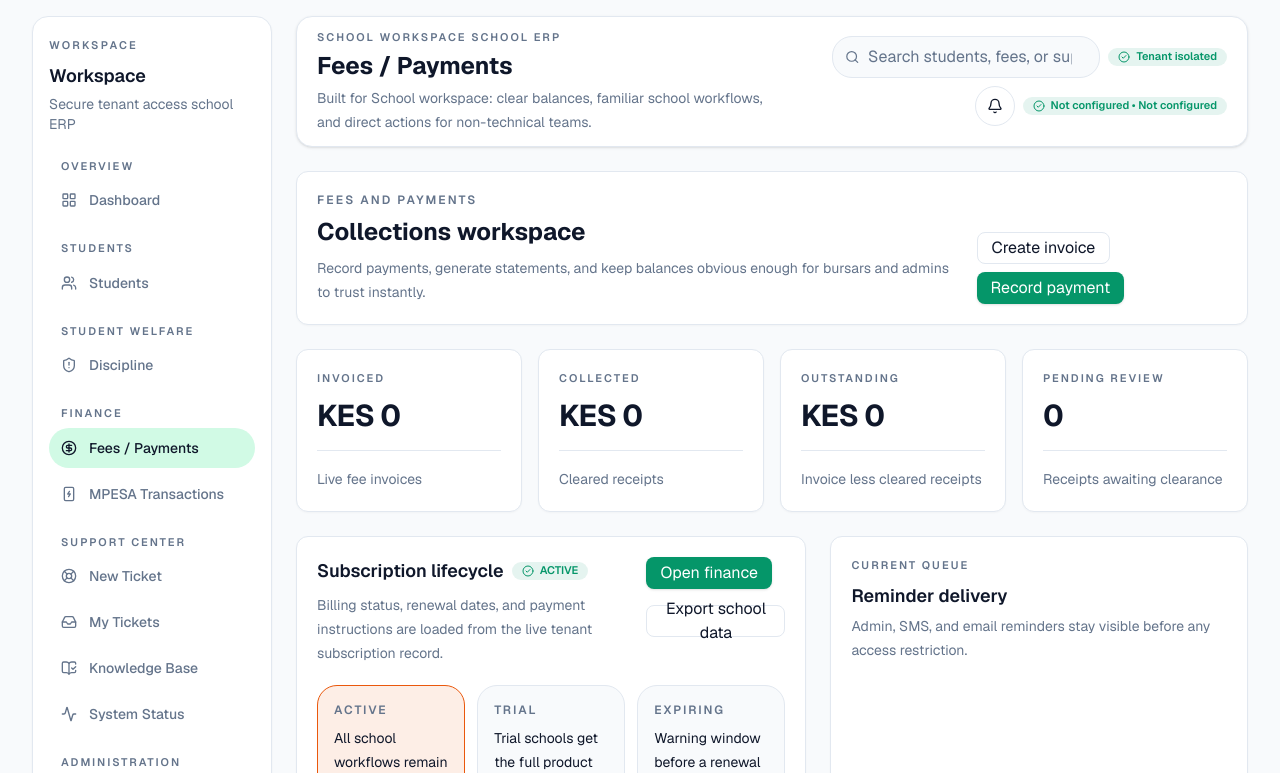
Test case: experience actions › records a school payment through the collections workspace
The image size is (1280, 773).
Click the button "Record payment": (1050, 288) [976,272,1124,304]
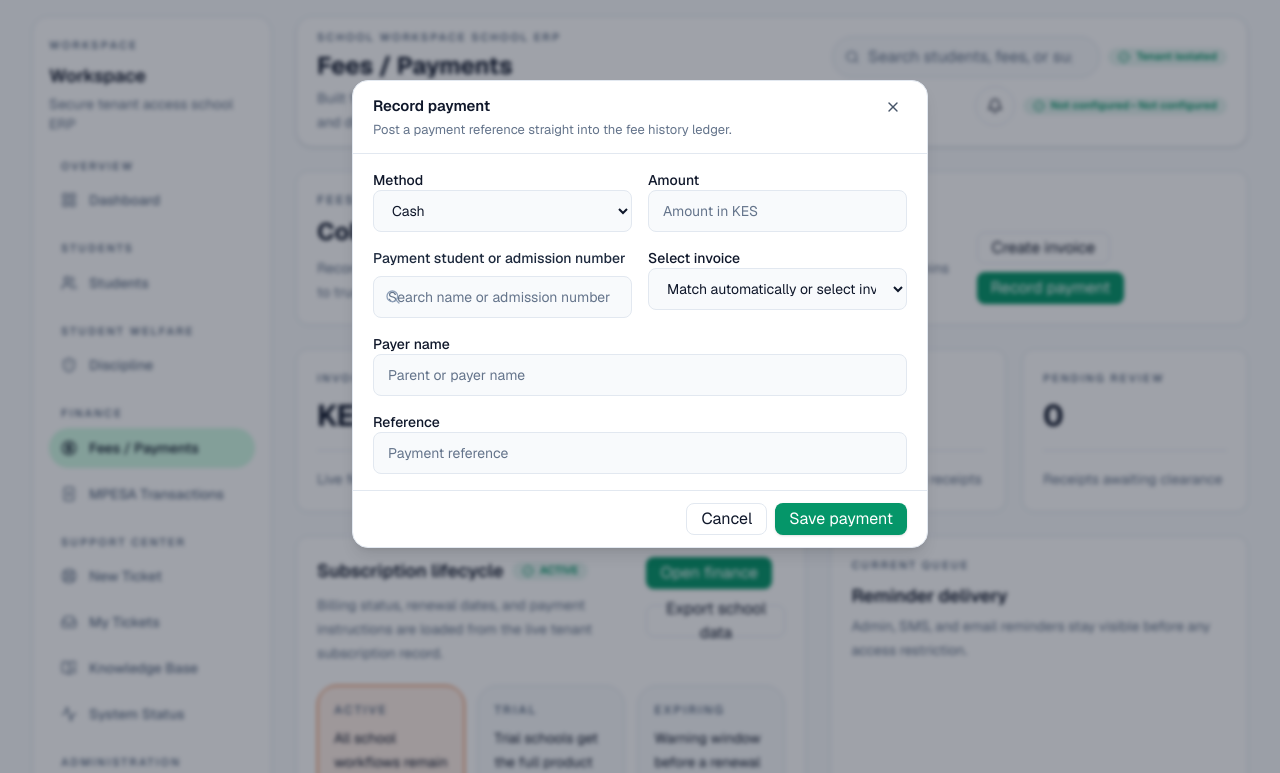
In the field labelled "Payment student or admission number": (502, 297) [373,276,632,318], type "Mercy"
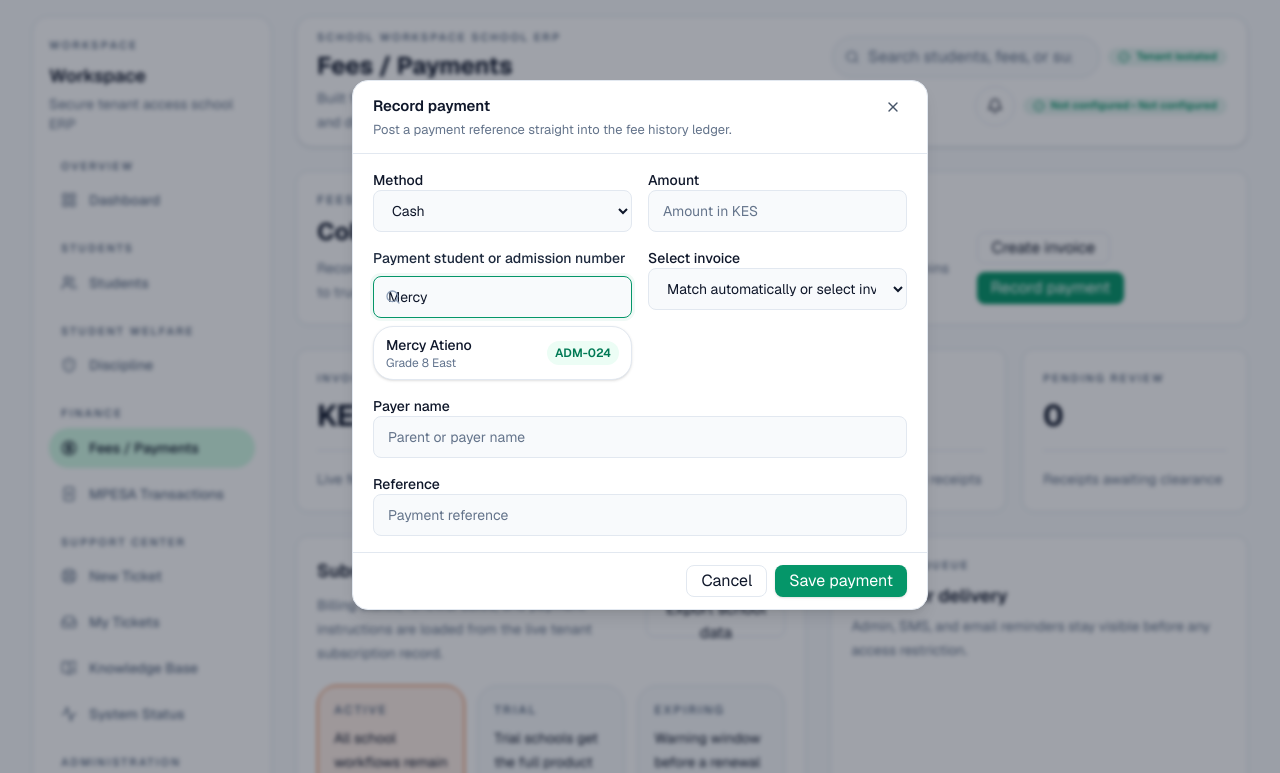
Click the button "Mercy Atieno Grade 8 East ADM-024": (502, 353) [374,327,631,379]
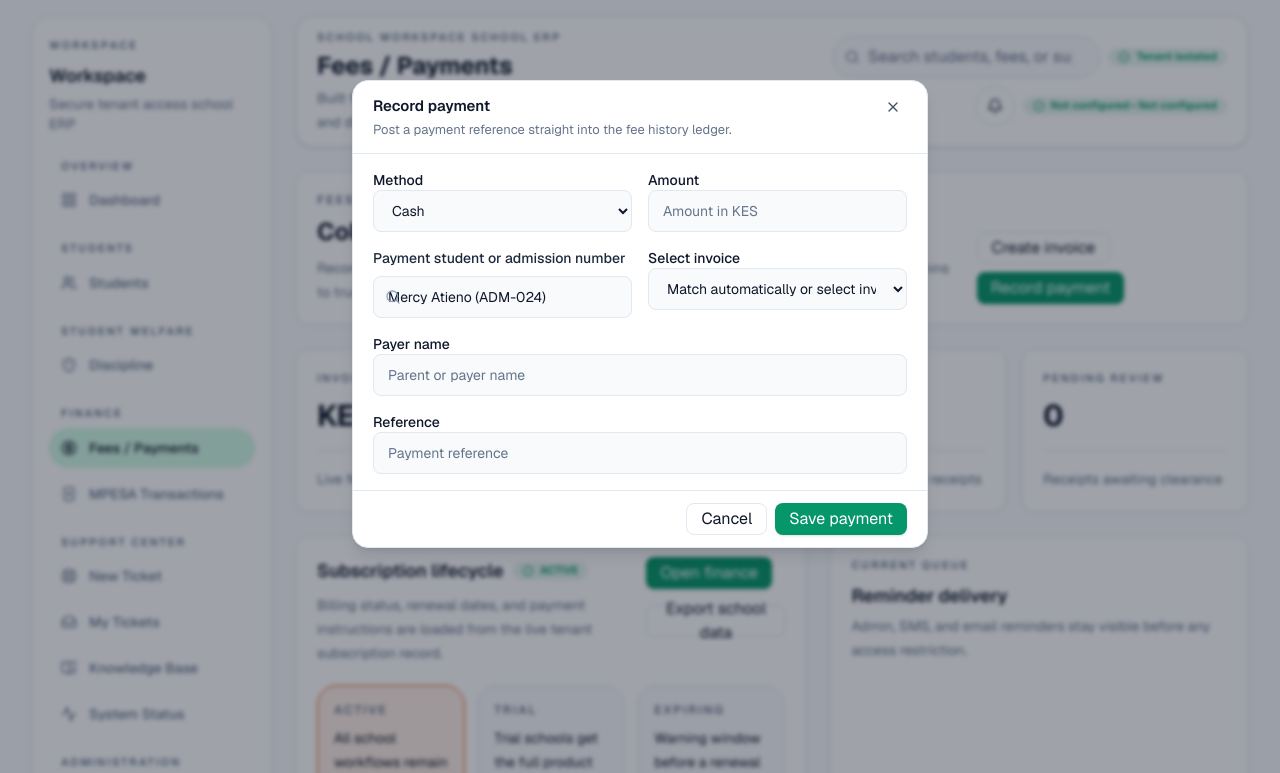
In the field named "payment amount": (778, 211) [648,190,907,232], type "18500"
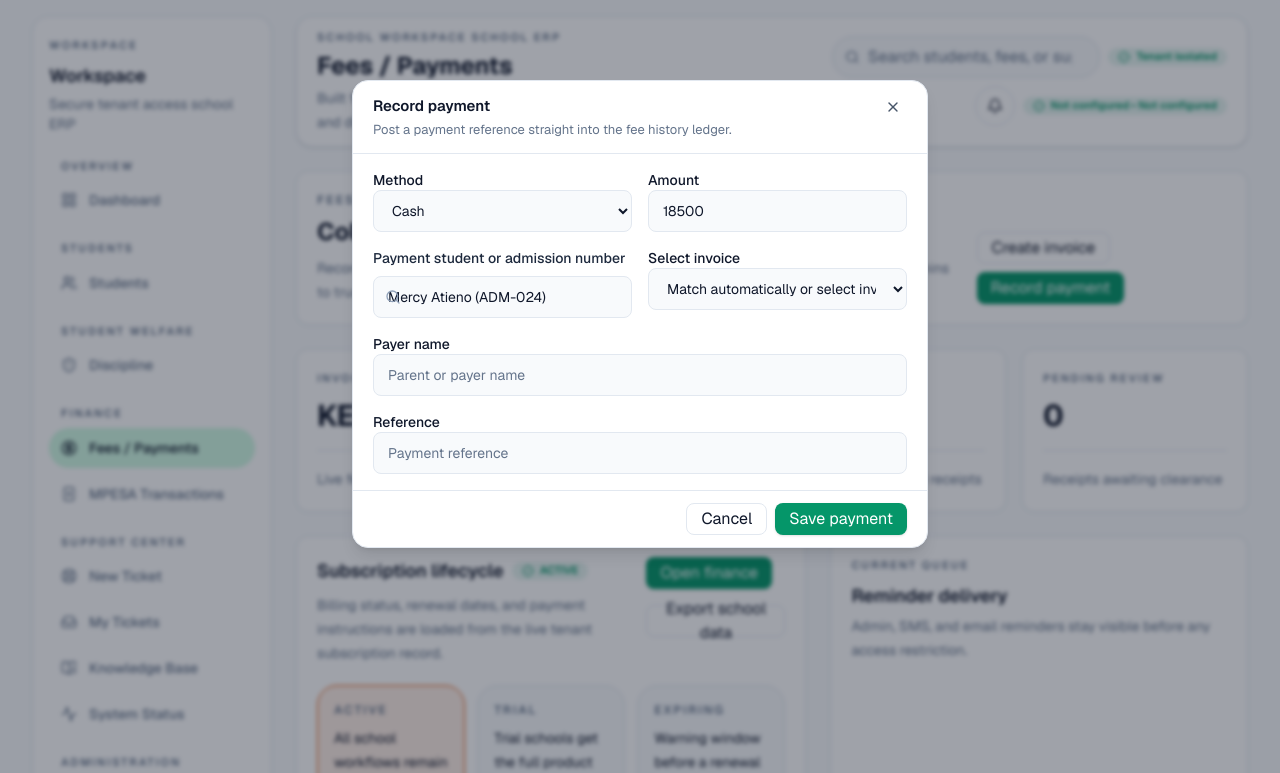
In the field named "Payment reference": (640, 453) [373,432,907,474], type "SMX82KQ4"
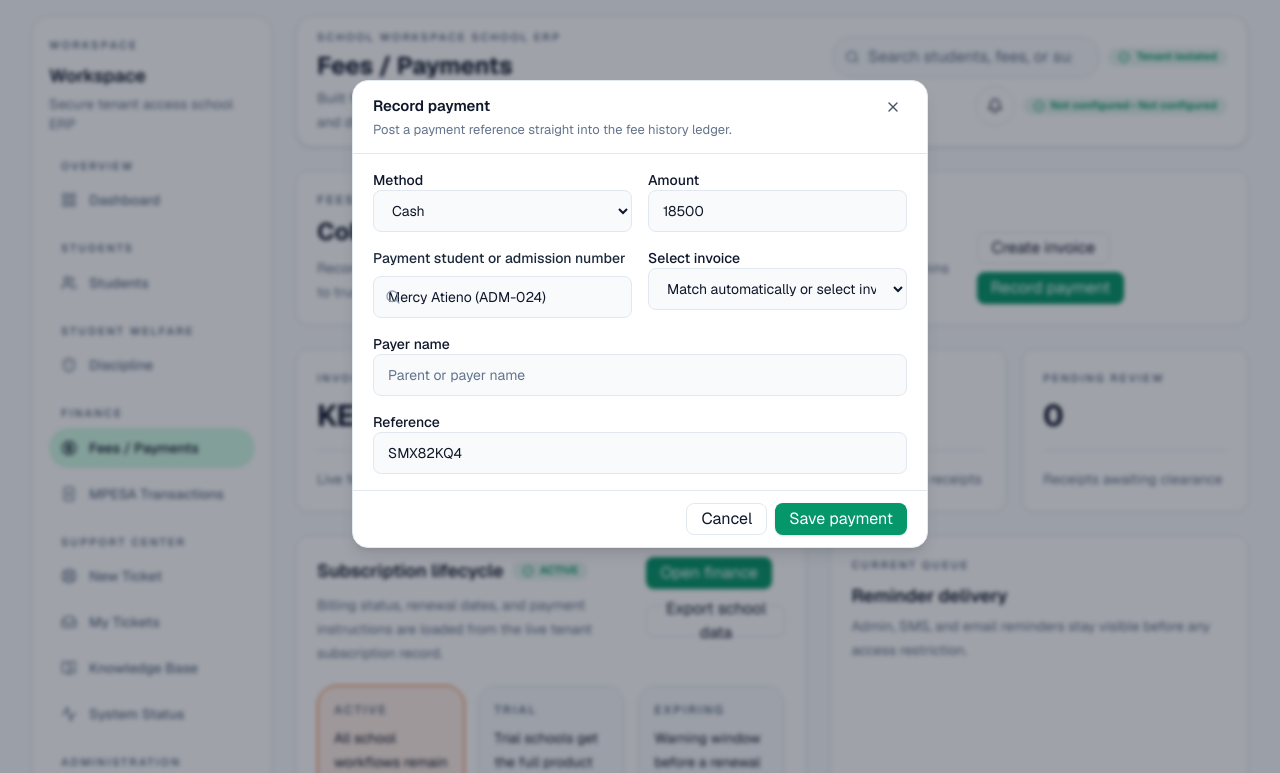
Click the button "Save payment": (841, 519) [775,503,907,535]
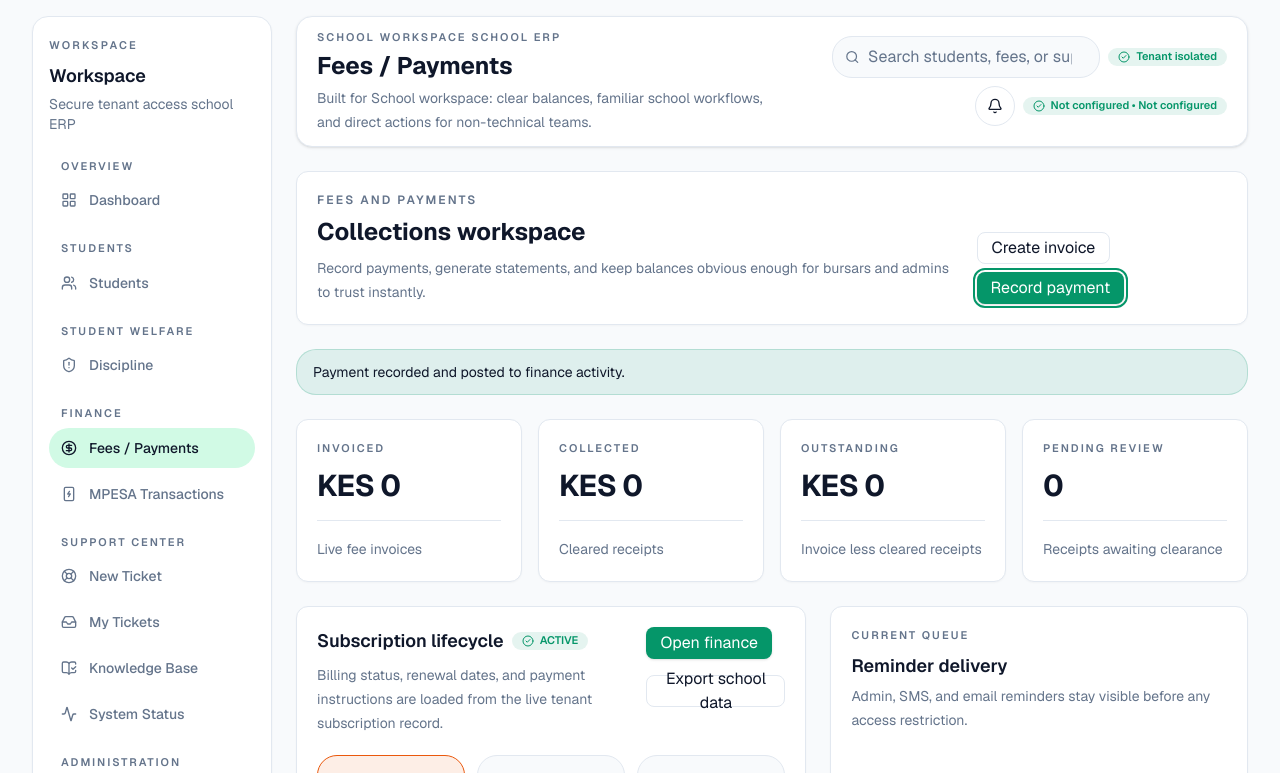
Now the text "Payment recorded and posted to finance activity." is shown, box [296,348,1248,394]
